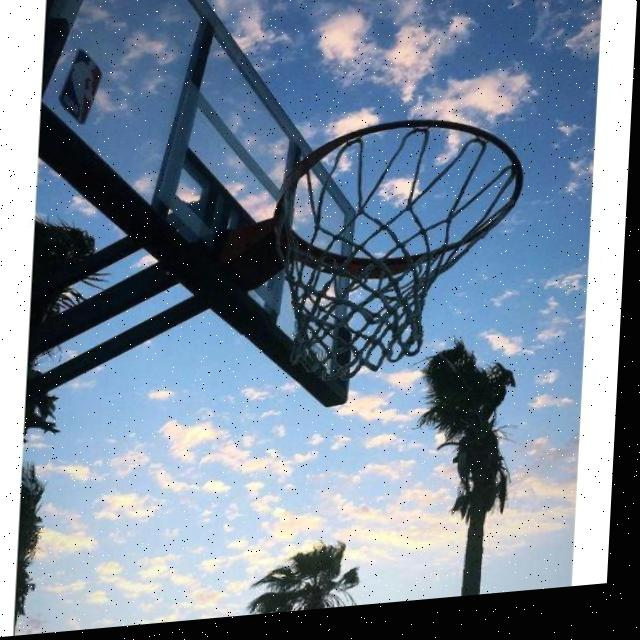hoop: (261, 106, 560, 393)
